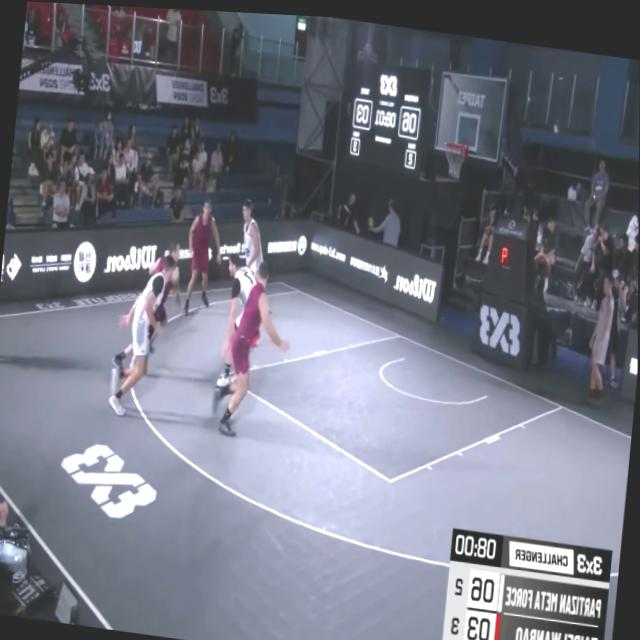hoop: (441, 130, 470, 180)
player: (214, 251, 300, 442), (108, 245, 178, 420), (110, 233, 184, 372), (216, 249, 265, 395), (181, 192, 225, 314), (233, 196, 267, 280)
